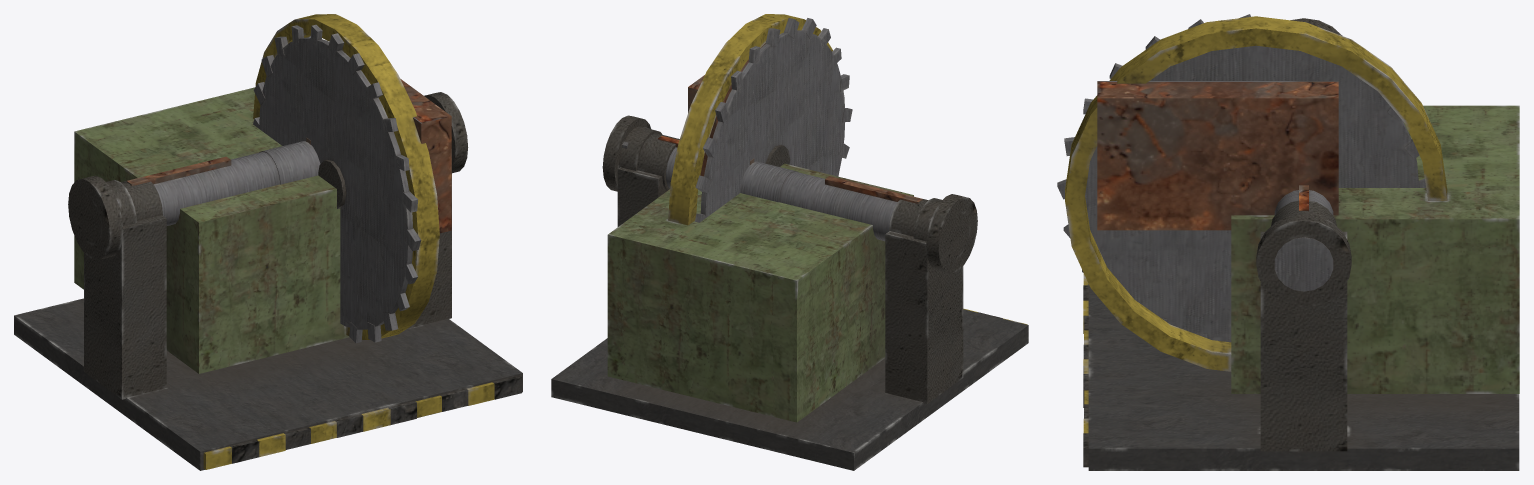
The model's file is feMechSaw_HD.fbx.
The picture shows the model from 3 angles, left to right: view 1: azimuth 30°, elevation 25°; view 2: azimuth 150°, elevation 25°; view 3: azimuth 270°, elevation 25°; orthographic projection. The views are drawn at different scales.
Parts seen in each view (by area): view 1: feMechSaw_Base, FeSpin_x3_Blade, FeSpin_DriveShaft; view 2: feMechSaw_Base, FeSpin_x3_Blade, FeSpin_DriveShaft; view 3: feMechSaw_Base, FeSpin_x3_Blade, FeSpin_DriveShaft.
Boxes of the visible parts, left/top/right/bottom form: feMechSaw_Base: left=14, top=14, right=522, bottom=470; FeSpin_x3_Blade: left=253, top=24, right=421, bottom=343; FeSpin_DriveShaft: left=68, top=92, right=468, bottom=260; feMechSaw_Base: left=551, top=14, right=1028, bottom=470; FeSpin_x3_Blade: left=695, top=18, right=852, bottom=222; FeSpin_DriveShaft: left=602, top=115, right=977, bottom=273; feMechSaw_Base: left=1065, top=16, right=1519, bottom=470; FeSpin_x3_Blade: left=1057, top=14, right=1425, bottom=342; FeSpin_DriveShaft: left=1256, top=18, right=1351, bottom=307.
Bounding box in the file's own units: 1 × 0.9006 × 0.9684.
Materials: 1 (1 with a texture image).
